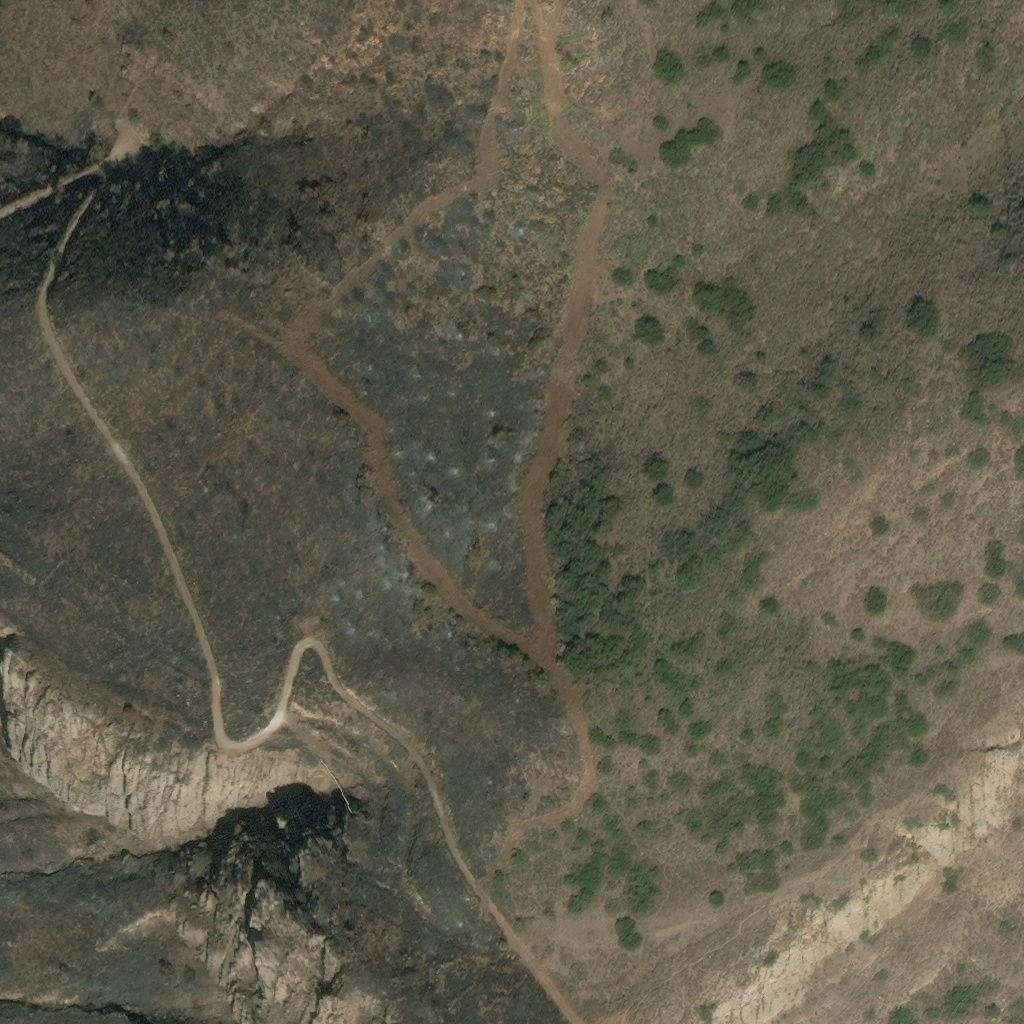3 destroyed: (326, 773, 356, 819)
